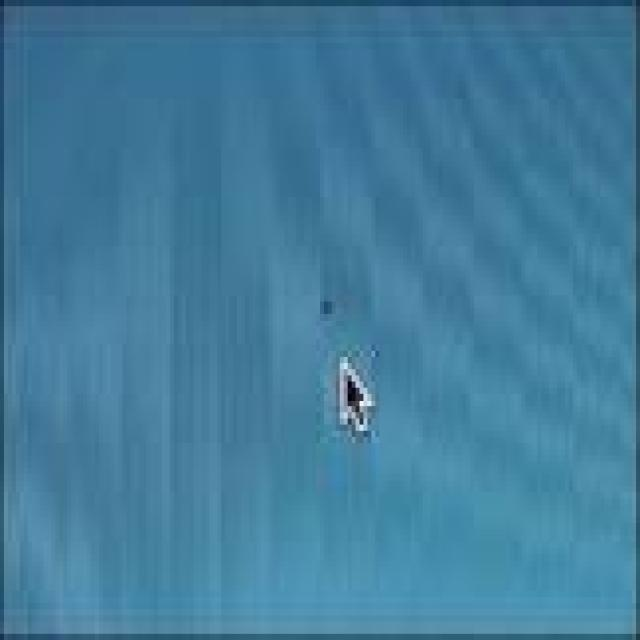dead_pixel: (316, 299, 337, 325)
